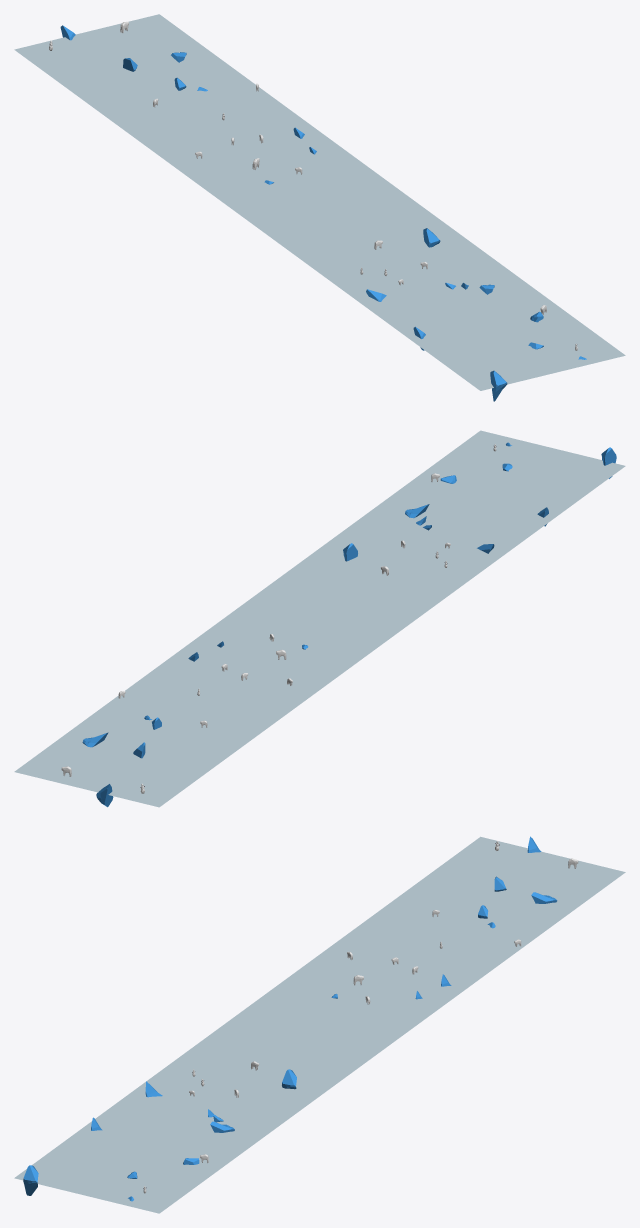
The model's file is ice right chunk.fbx.
3 renders of one model, top to bottom at view 1: azimuth 30°, elevation 25°; view 2: azimuth 150°, elevation 25°; view 3: azimuth 330°, elevation 25°, orthographic.
Visible parts, largest first — view 1: Plane.011; view 2: Plane.011; view 3: Plane.011.
Part boxes in pixels (x1=…): Plane.011: x1=14, y1=14, x2=625, y2=401; Plane.011: x1=14, y1=430, x2=625, y2=807; Plane.011: x1=14, y1=836, x2=625, y2=1213.
Size of the model in its own units: 3600 by 806 by 20268.
